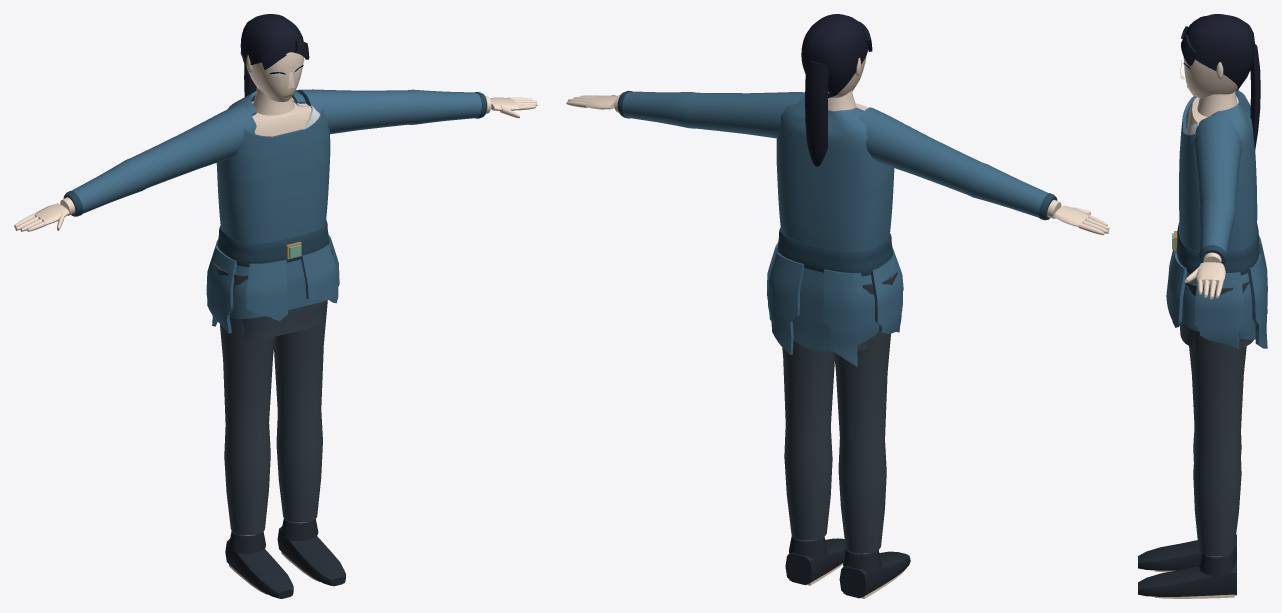
The model's file is cultivator_handsome_youth_v8_blender.glb.
The picture shows the model from 3 angles, left to right: view 1: azimuth 30°, elevation 25°; view 2: azimuth 150°, elevation 25°; view 3: azimuth 270°, elevation 25°; orthographic projection. The views are drawn at different scales.
Parts seen in each view (by area): view 1: V8_Outfit, V8_Body, V8_Hair, V8_Head_Face; view 2: V8_Outfit, V8_Hair, V8_Body; view 3: V8_Outfit, V8_Hair, V8_Body, V8_Head_Face.
Part boxes in pixels (x1,y1,x2,y2): V8_Outfit: (63,89,487,598); V8_Body: (14,87,537,594); V8_Hair: (240,14,309,96); V8_Head_Face: (246,52,303,102); V8_Outfit: (617,90,1057,598); V8_Hair: (801,14,872,166); V8_Body: (566,90,1109,598); V8_Outfit: (1138,90,1267,596); V8_Hair: (1181,14,1260,150); V8_Body: (1154,91,1238,598); V8_Head_Face: (1180,57,1237,98).
Bounding box in the file's own units: 1.75 × 1.75 × 0.3679.
